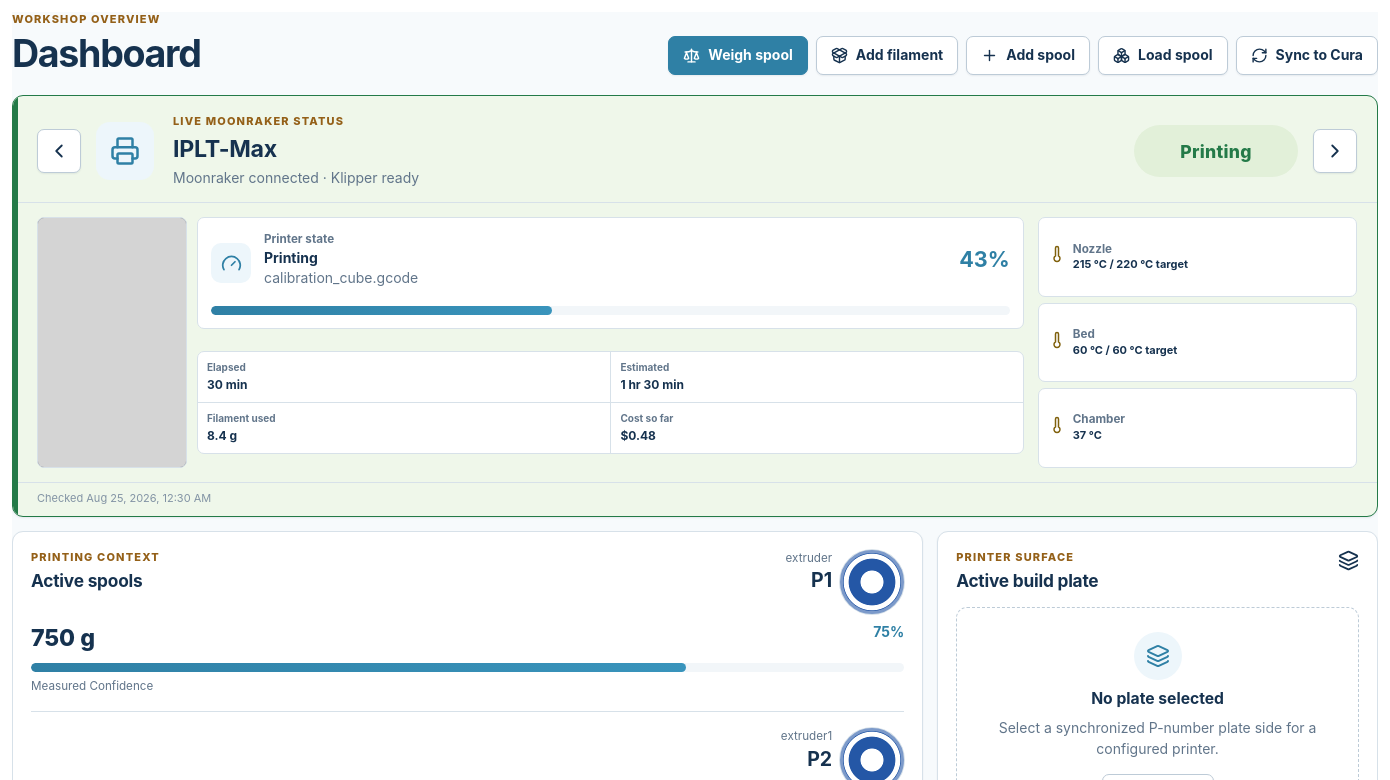
Test case: DashboardPage › keeps separate destinations for loaded hotends and updates them with the printer context
Click the button named "Next printer" at (1335, 151), box [1313,129,1357,173]
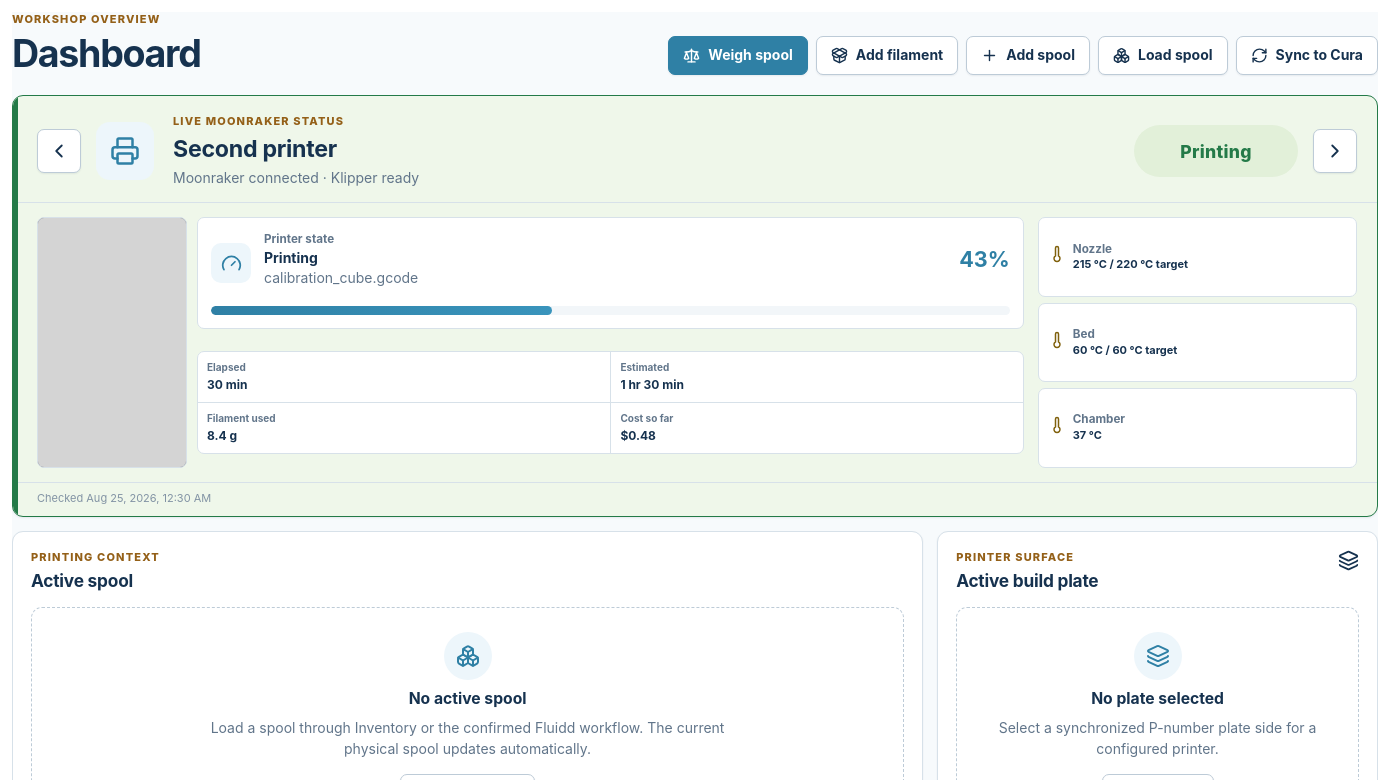
Expected: the heading "No active spool" is shown, [409,688,526,710]
